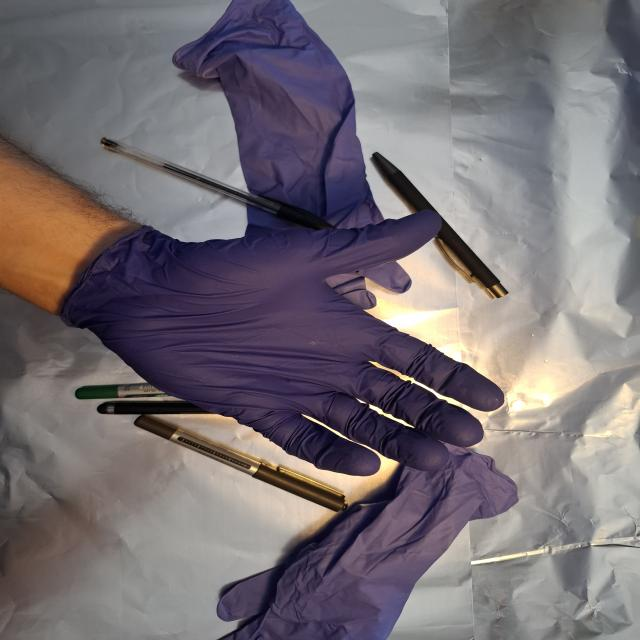glove_on: (63, 205, 508, 478)
